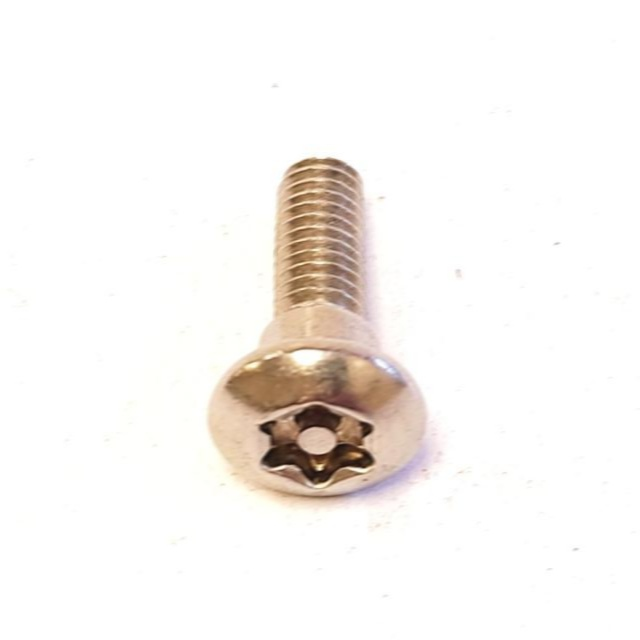torx: (207, 341, 429, 497)
